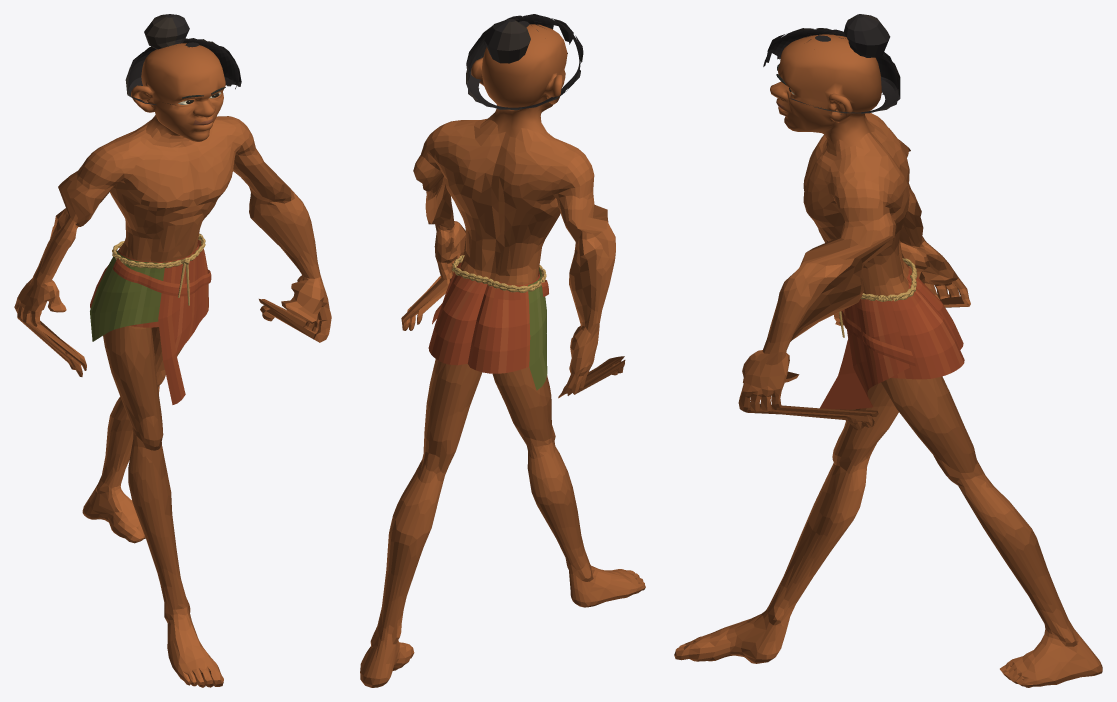
File: homem_03.glb
3 renders of one model, left to right at view 1: azimuth 30°, elevation 25°; view 2: azimuth 150°, elevation 25°; view 3: azimuth 270°, elevation 25°, orthographic. The views are drawn at different scales.
Parts seen in each view (by area): view 1: homem_03_corpo; view 2: homem_03_corpo; view 3: homem_03_corpo.
Boxes of the visible parts, <box> form: homem_03_corpo: <box>14,14,331,687</box>; homem_03_corpo: <box>360,14,645,687</box>; homem_03_corpo: <box>674,14,1102,687</box>.
Size of the model in its own units: 0.726 by 1.86 by 1.09.
